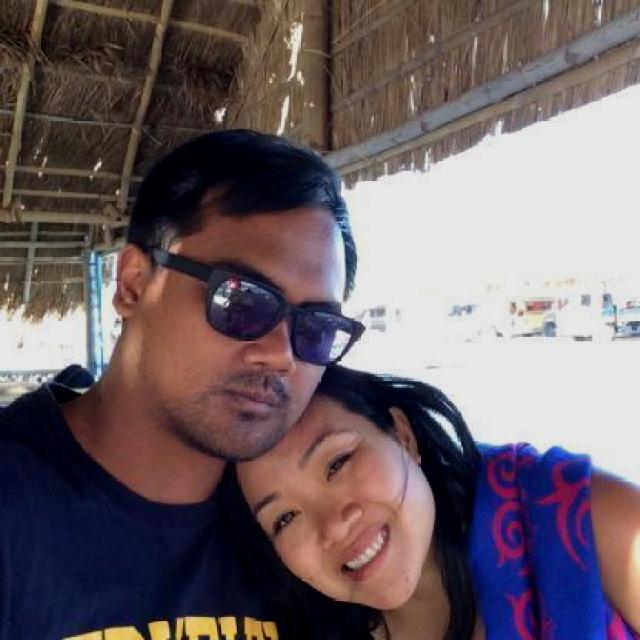face_nomask: (247, 421, 415, 582), (186, 248, 336, 427)
glasses: (132, 253, 371, 362)
head_nohelmet: (136, 131, 342, 243)
